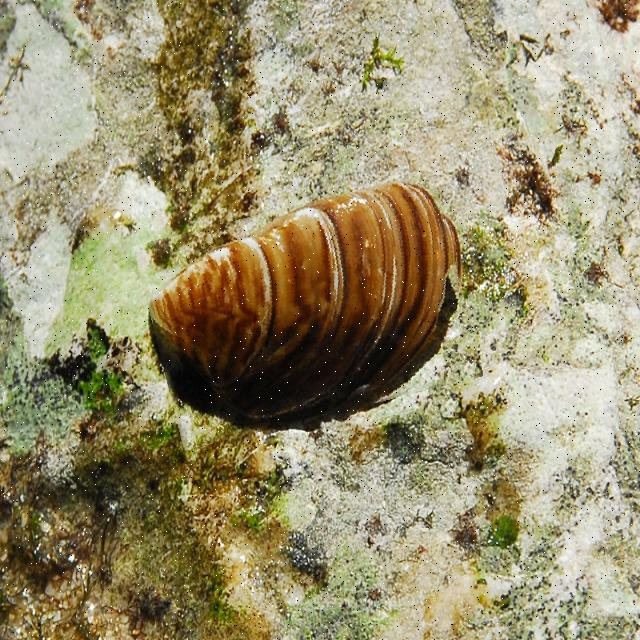Dreissena_polymorpha: (144, 188, 473, 433)
